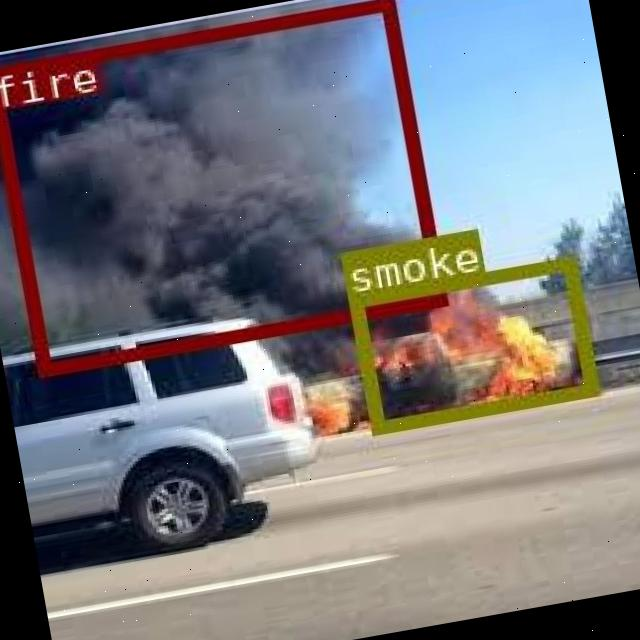fire: (0, 0, 443, 374)
smoke: (345, 253, 598, 433)
